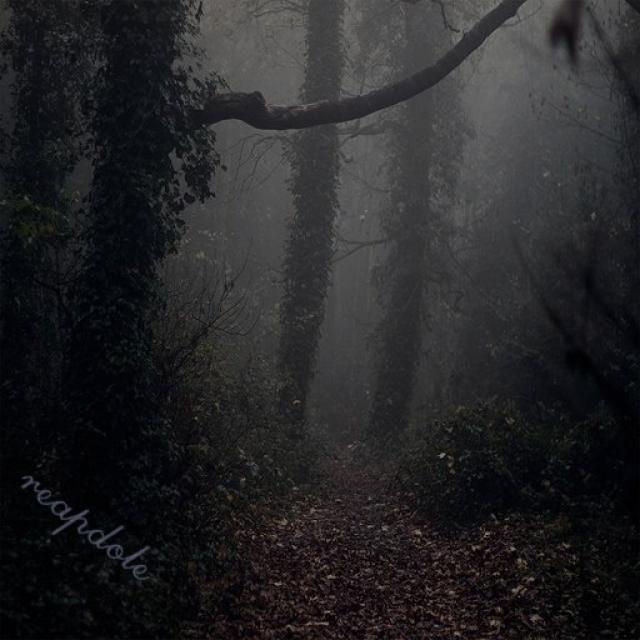watermark: (6, 450, 176, 592)
